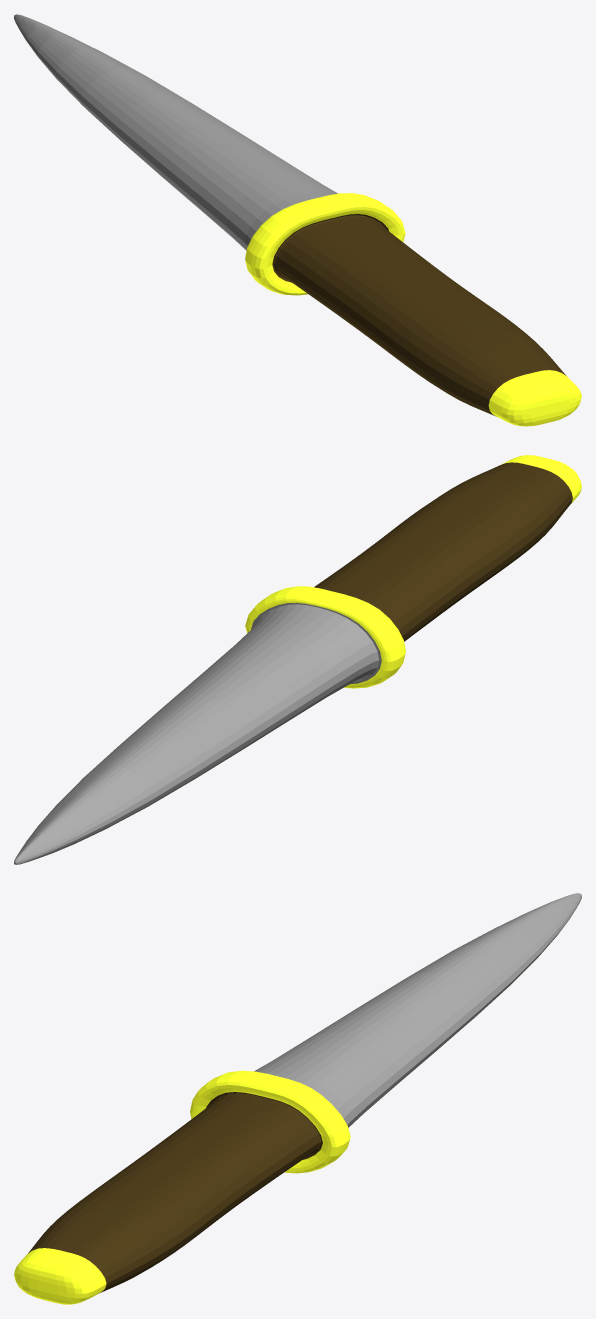
The model's file is cuchillo.fbx.
3 renders of one model, top to bottom at view 1: azimuth 30°, elevation 25°; view 2: azimuth 150°, elevation 25°; view 3: azimuth 330°, elevation 25°, orthographic.
Visible parts, largest first — view 1: Cube; view 2: Cube; view 3: Cube.
Boxes of the visible parts, bbox=[...] form: Cube: bbox=[14, 14, 581, 426]; Cube: bbox=[14, 455, 581, 864]; Cube: bbox=[14, 893, 581, 1304].
Size of the model in its own units: 0.7908 by 0.4186 by 4.83.
